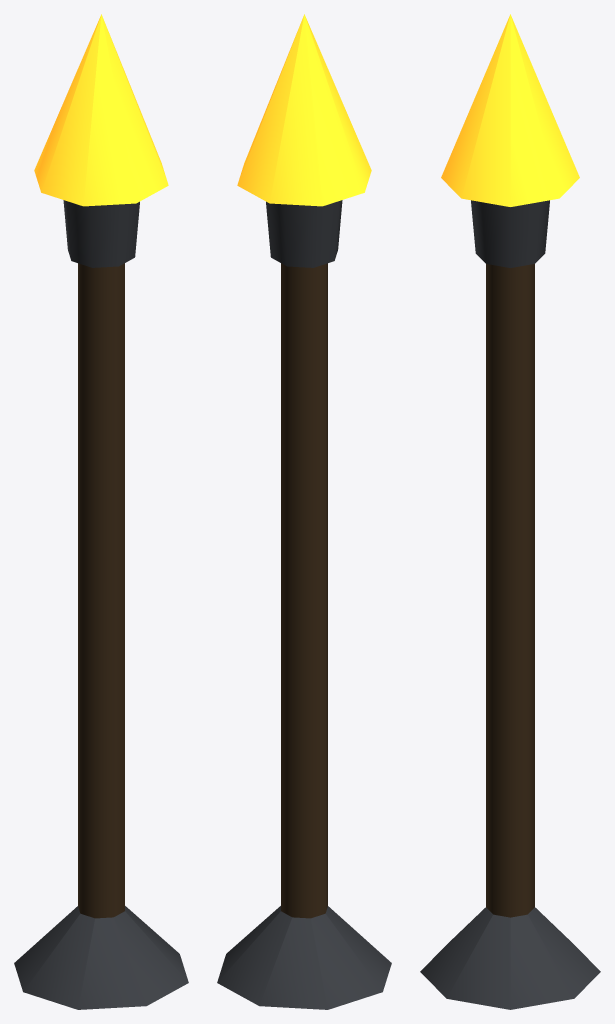
File: torch.glb
3 views of the same model, side by side, from view 1: azimuth 30°, elevation 25°; view 2: azimuth 150°, elevation 25°; view 3: azimuth 270°, elevation 25° (orthographic).
Bounding box in the file's own units: 0.26 × 1.52 × 0.26.
